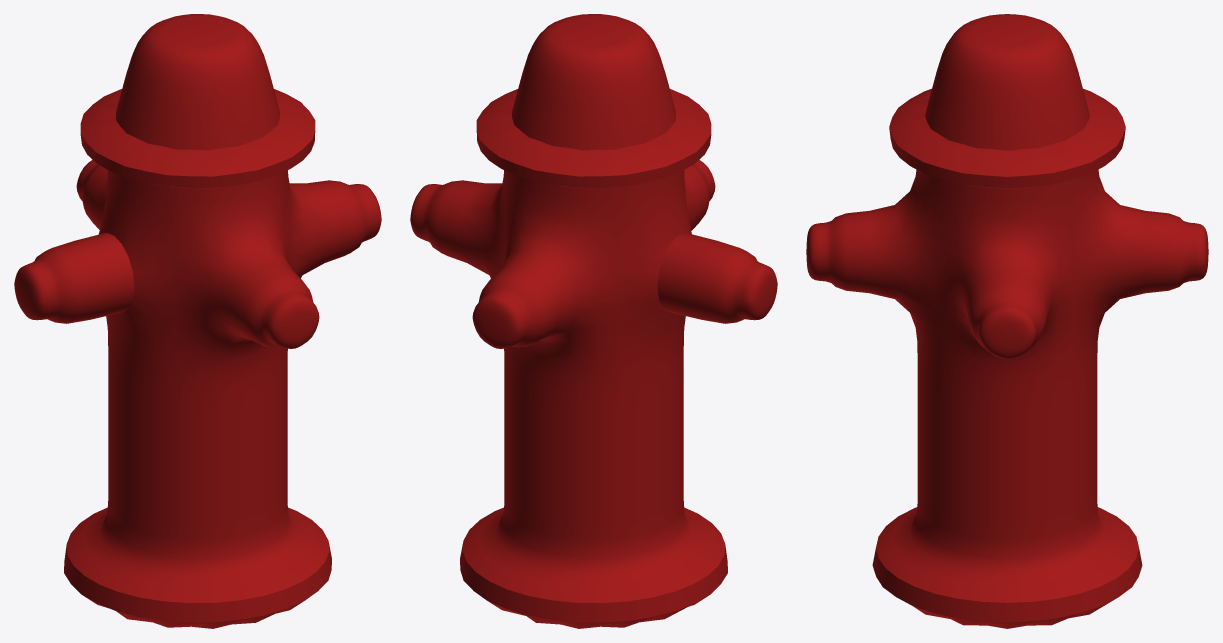
Rendered from Hydrant.fbx.
The picture shows the model from 3 angles, left to right: view 1: azimuth 30°, elevation 25°; view 2: azimuth 150°, elevation 25°; view 3: azimuth 270°, elevation 25°; orthographic projection.
Parts seen in each view (by area): view 1: Hydrant; view 2: Hydrant; view 3: Hydrant.
Boxes of the visible parts, x1,y1,x2,y2 form: Hydrant: (14,14,381,628); Hydrant: (410,14,777,628); Hydrant: (806,14,1208,628).
Bounding box in the file's own units: 97.85 × 151 × 97.85.
